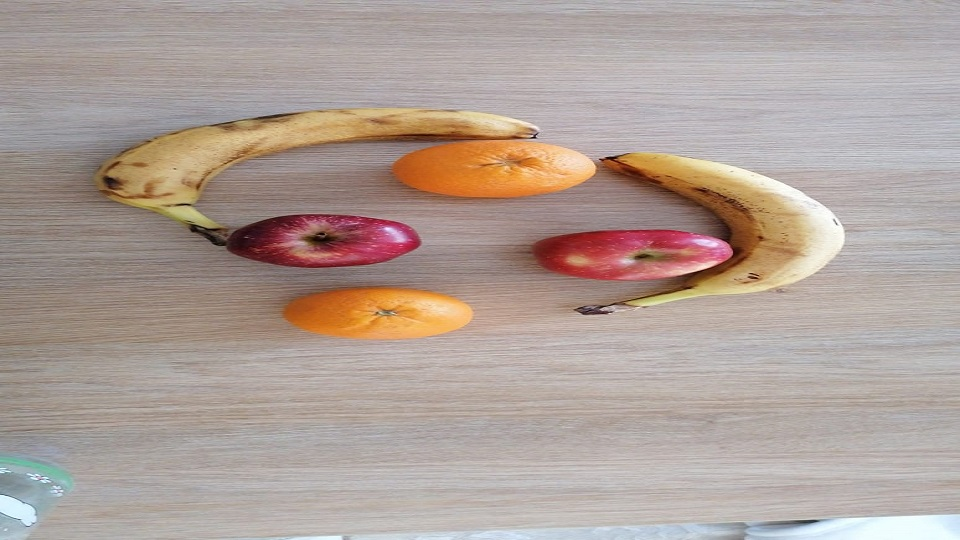elma: (532, 227, 736, 282), (225, 213, 420, 269)
muz: (93, 106, 540, 234), (603, 152, 846, 309)
portakal: (391, 138, 598, 199), (281, 286, 475, 340)
